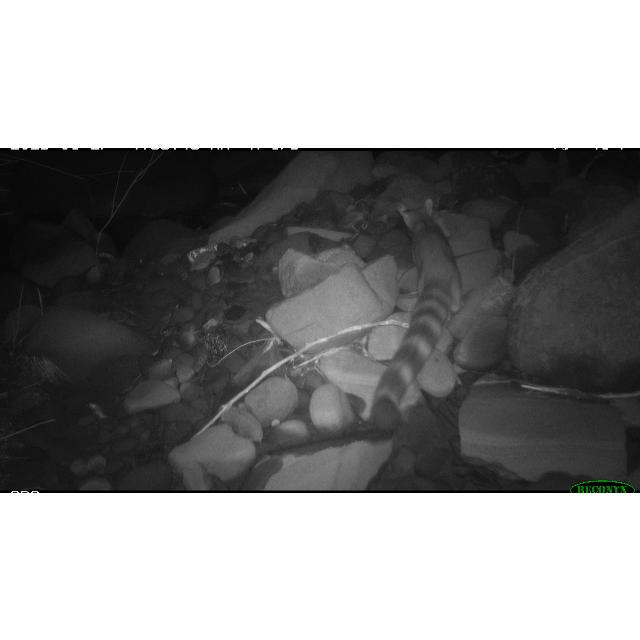animals: (372, 200, 466, 430)
